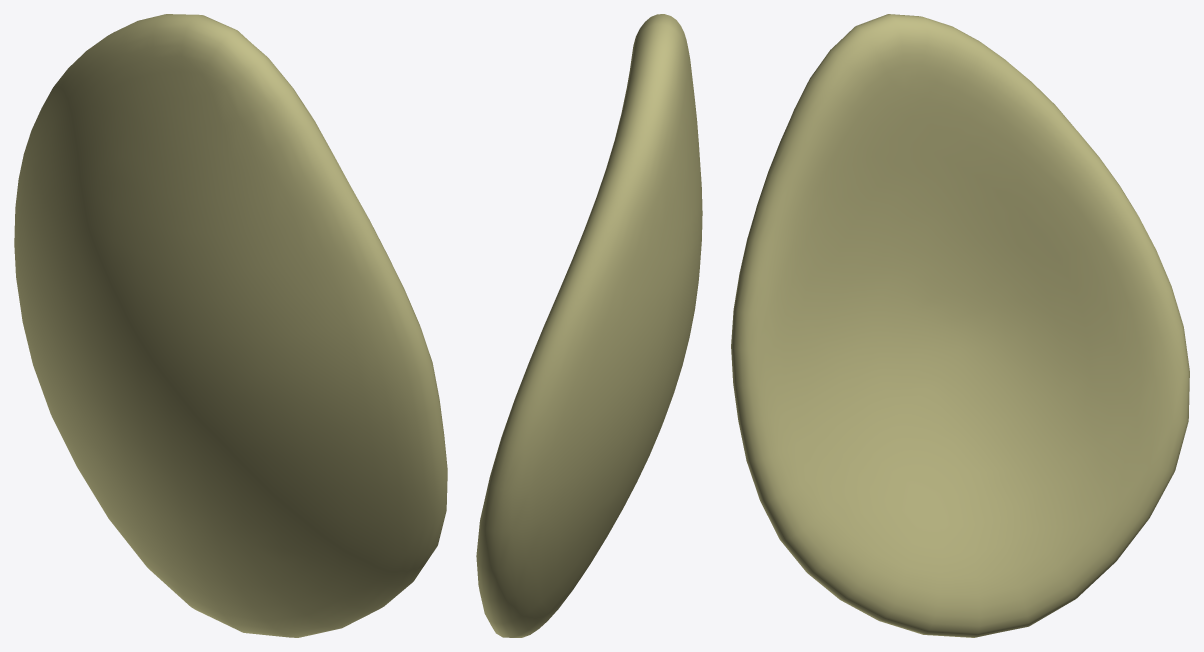
File: TL4_Enamel_Diamond.001 3.glb
3 renders of one model, left to right at view 1: azimuth 30°, elevation 25°; view 2: azimuth 150°, elevation 25°; view 3: azimuth 270°, elevation 25°, orthographic. The views are drawn at different scales.
Visible parts, largest first — view 1: TL4_Enamel_Diamond.001; view 2: TL4_Enamel_Diamond.001; view 3: TL4_Enamel_Diamond.001.
Boxes of the visible parts, box(x1,y1,x2,y2) form: TL4_Enamel_Diamond.001: box(14, 14, 447, 637); TL4_Enamel_Diamond.001: box(476, 14, 702, 637); TL4_Enamel_Diamond.001: box(731, 14, 1189, 637).
Size of the model in its own units: 0.3266 by 0.8468 by 0.6101.
